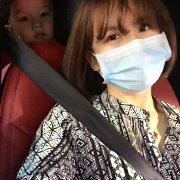NONE: (16, 2, 59, 43)
OK: (89, 13, 167, 91)
